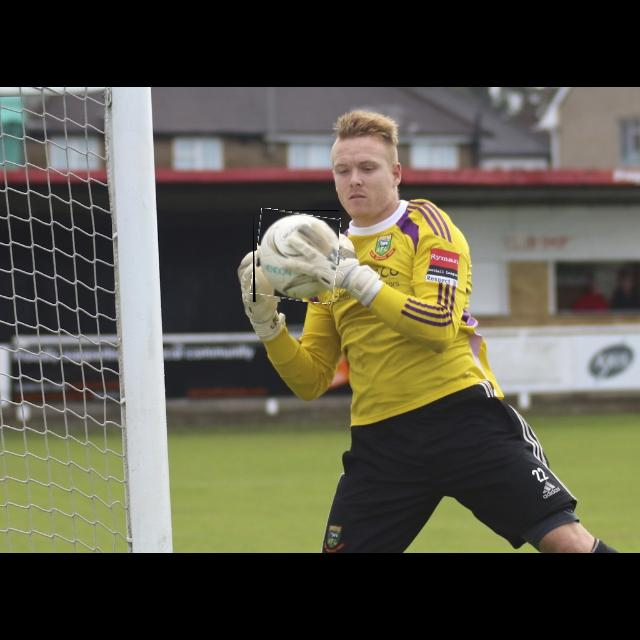Football: (253, 210, 339, 302)
